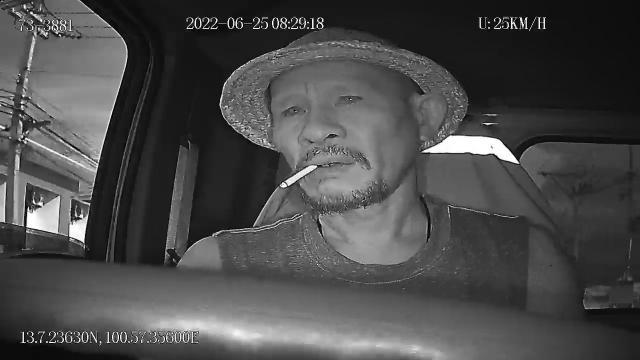SafeDriving: (330, 86, 370, 110), (275, 96, 311, 122)
Smoking: (280, 162, 320, 192)
